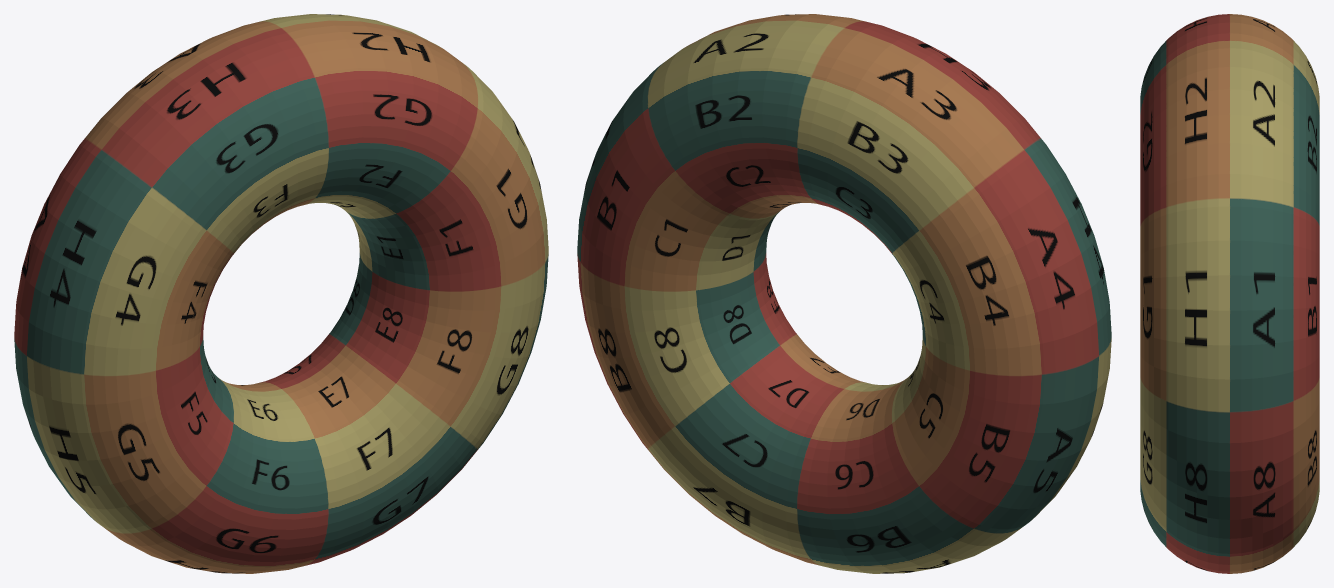
The model's file is texture_torus_R4_r15.glb.
3 renders of one model, left to right at view 1: azimuth 30°, elevation 25°; view 2: azimuth 150°, elevation 25°; view 3: azimuth 270°, elevation 25°, orthographic. The views are drawn at different scales.
Parts seen in each view (by area): view 1: world; view 2: world; view 3: world.
Part boxes in pixels (<box>): world: <box>14,14,548,573</box>; world: <box>577,14,1111,573</box>; world: <box>1140,14,1319,573</box>.
Bounding box in the file's own units: 18.67 × 18.63 × 5.99.
1 material, 1 textured.
